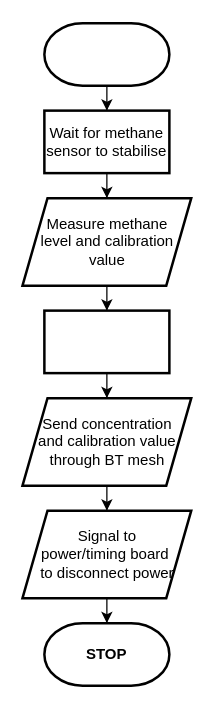
Image size: 214x708. Some labels were removed from this diagram. The shapes that lost their labels are listed below. From the top down, each one's centre as x and y in pixels, then its label:
(106,53): START
(106,341): Calculate concentration
